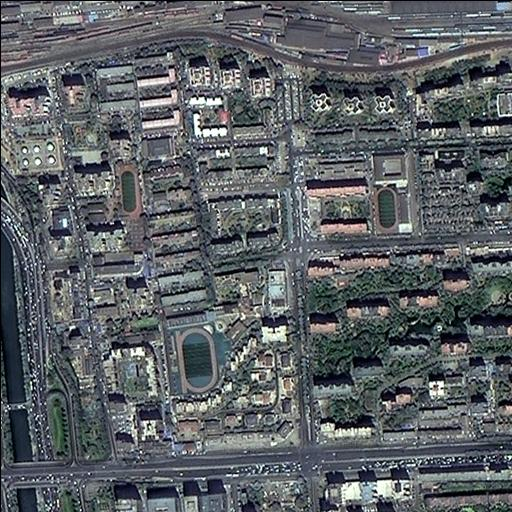school: (159, 299, 300, 395), (87, 157, 151, 276), (368, 148, 416, 234)
